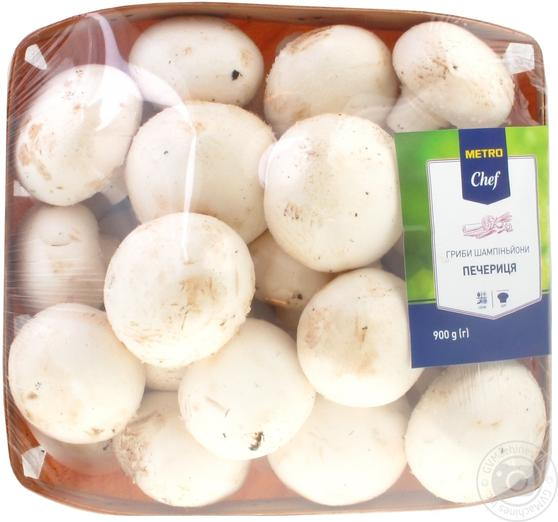champignon: (263, 106, 415, 274), (103, 210, 250, 361), (132, 97, 280, 246)
